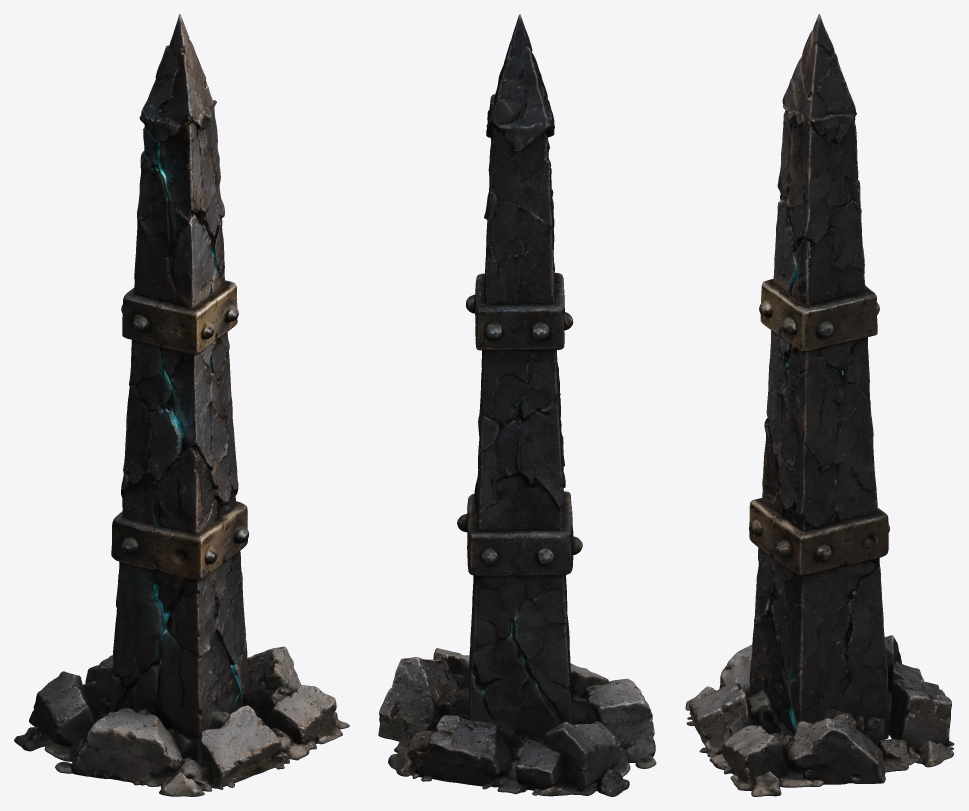
The model's file is stake_tripo_h31_raw.glb.
3 views of the same model, side by side, from view 1: azimuth 30°, elevation 25°; view 2: azimuth 150°, elevation 25°; view 3: azimuth 270°, elevation 25° (orthographic).
Visible parts, largest first — view 1: tripo_node_028a67c4-efbe-48fd-bdba-977631e8082a; view 2: tripo_node_028a67c4-efbe-48fd-bdba-977631e8082a; view 3: tripo_node_028a67c4-efbe-48fd-bdba-977631e8082a.
Part boxes in pixels (x1,y1,x2,y2): tripo_node_028a67c4-efbe-48fd-bdba-977631e8082a: [14, 14, 349, 796]; tripo_node_028a67c4-efbe-48fd-bdba-977631e8082a: [378, 14, 656, 796]; tripo_node_028a67c4-efbe-48fd-bdba-977631e8082a: [685, 14, 954, 796].
Size of the model in its own units: 0.3896 by 1 by 0.3399.
1 material, 1 textured.
